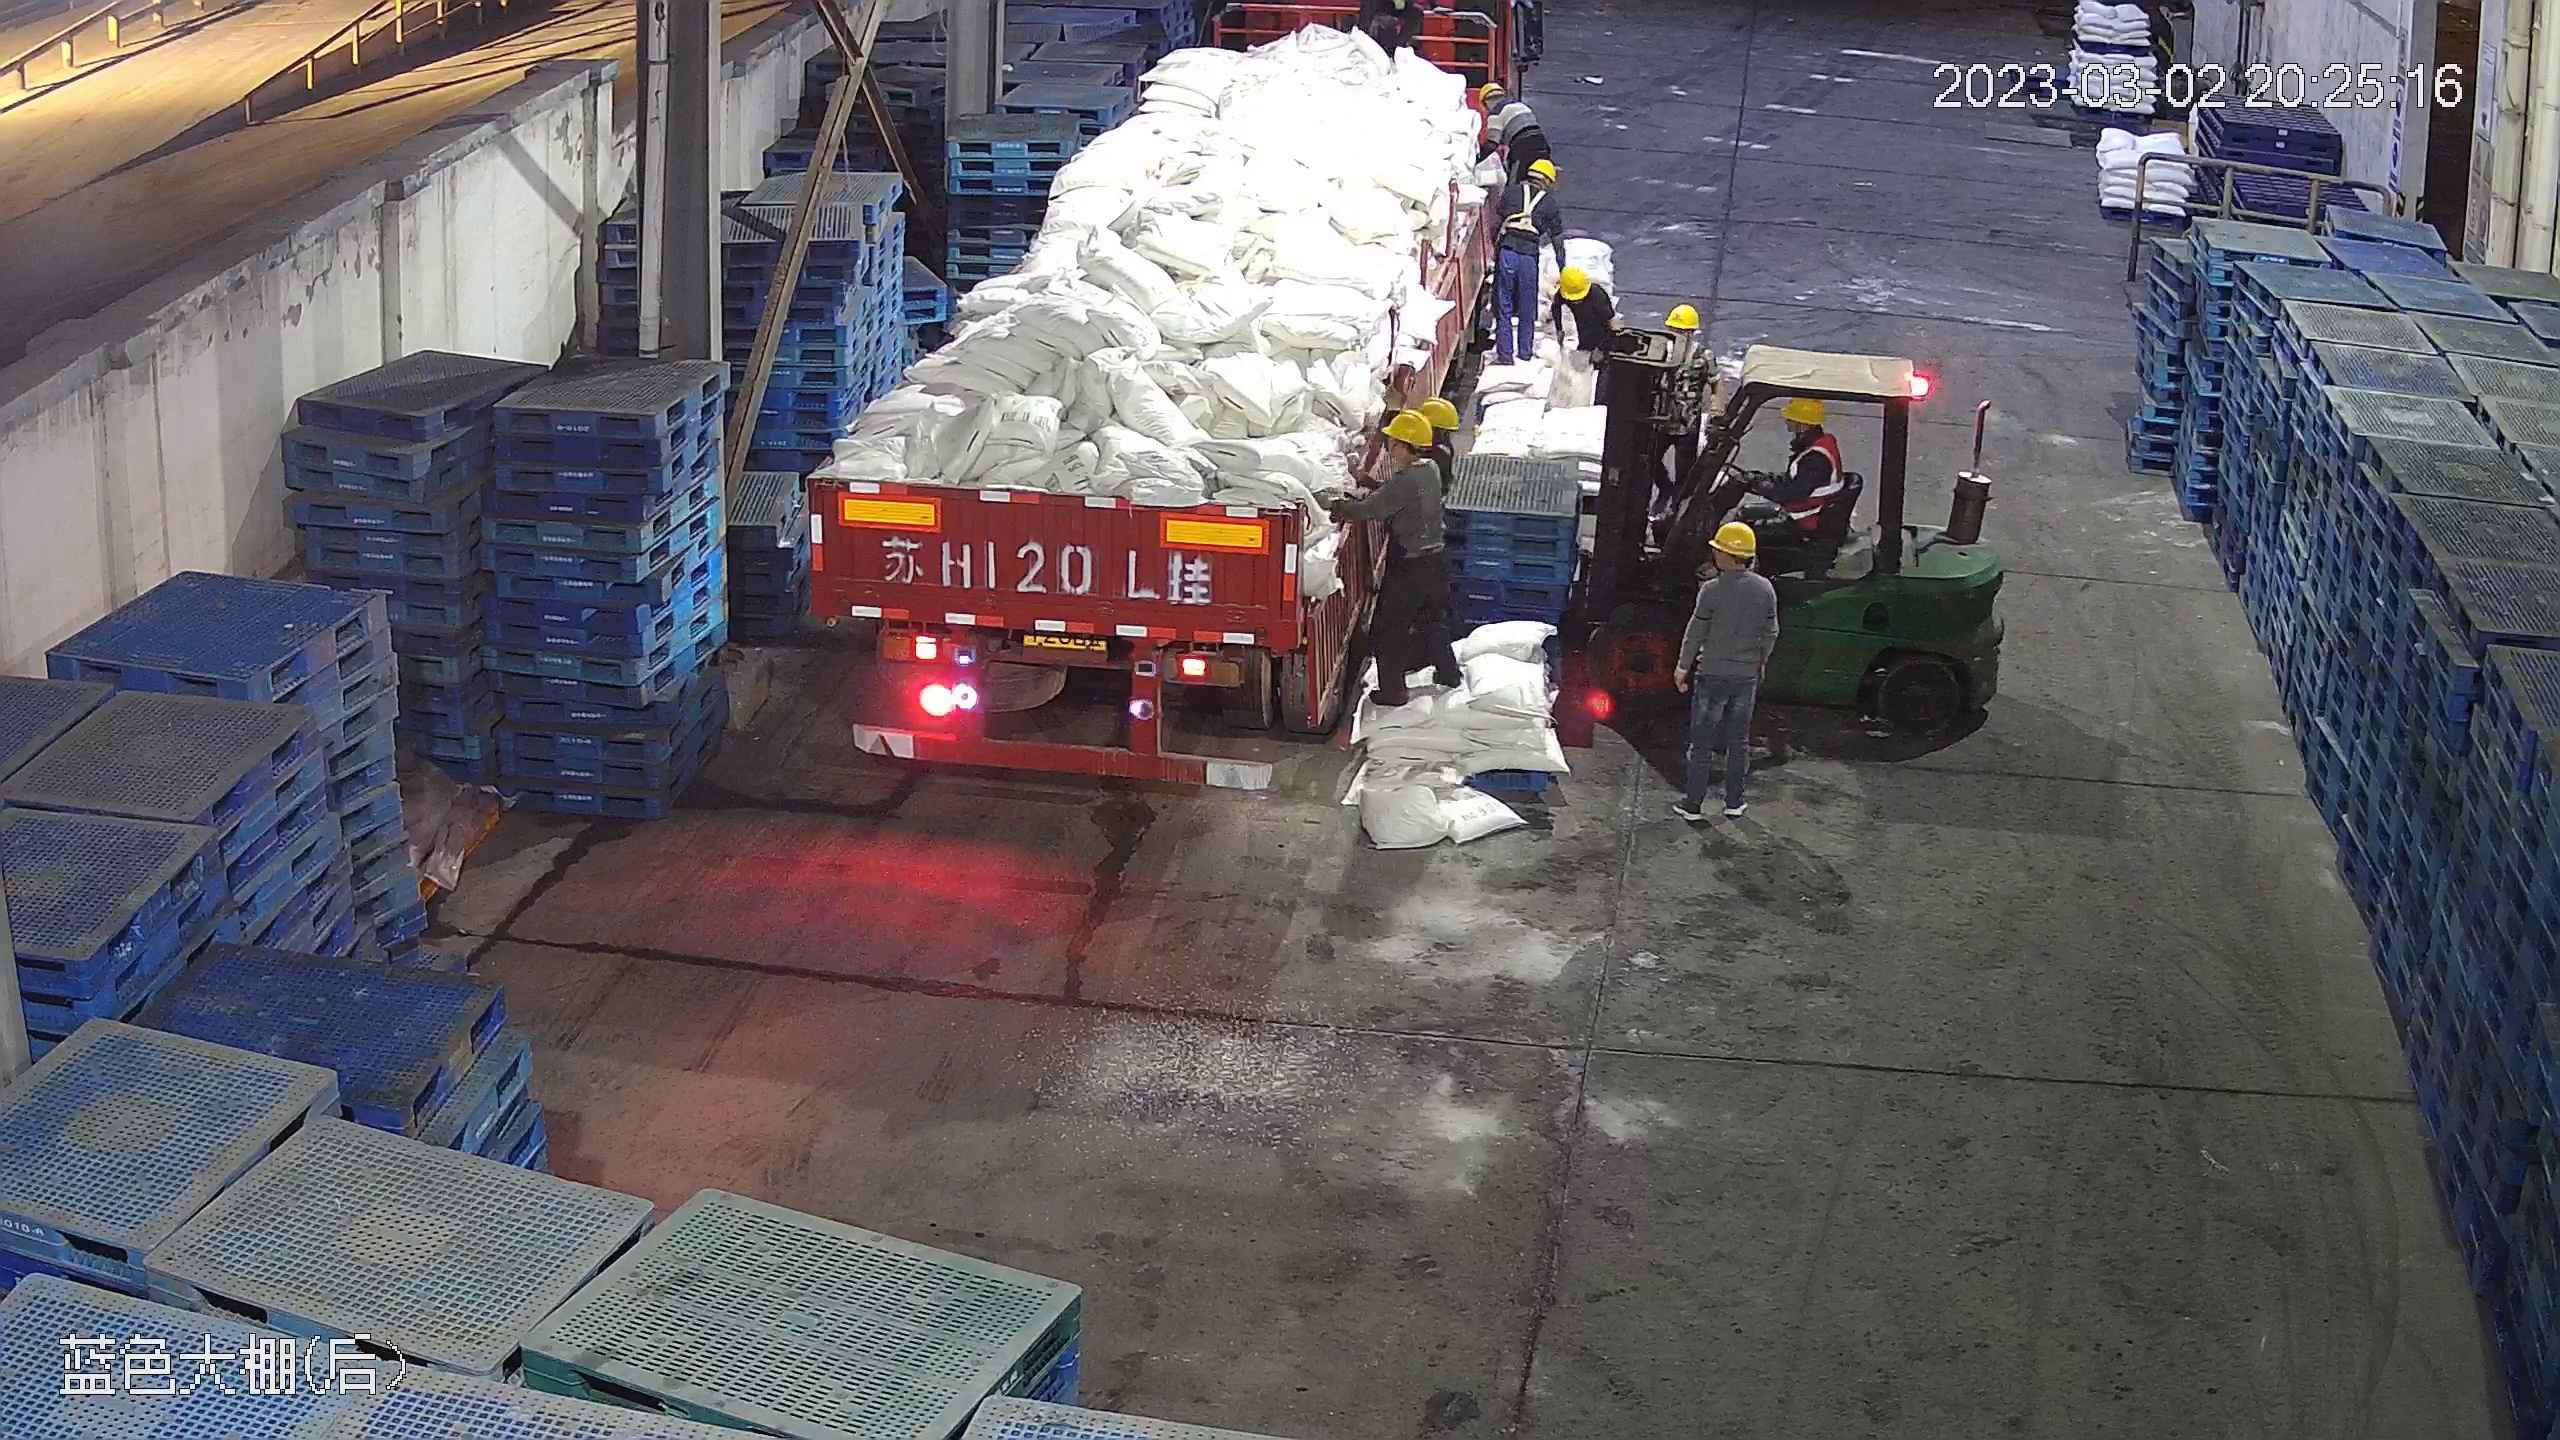belt: (1499, 174, 1552, 231), (1666, 335, 1696, 397)
head: (1688, 519, 1779, 625), (1361, 407, 1446, 512), (1772, 396, 1845, 484), (1557, 263, 1631, 334), (1647, 301, 1710, 374), (1493, 153, 1564, 216), (1471, 79, 1530, 128)
helmet: (1389, 401, 1447, 444), (1707, 521, 1759, 562), (1554, 261, 1593, 301), (1778, 396, 1823, 424), (1662, 300, 1700, 330), (1528, 157, 1559, 182), (1471, 79, 1502, 100)
people: (1352, 398, 1466, 721), (1671, 515, 1779, 821), (1707, 396, 1852, 577), (1626, 294, 1711, 536), (1478, 148, 1564, 369)
truck: (794, 6, 1521, 800)
